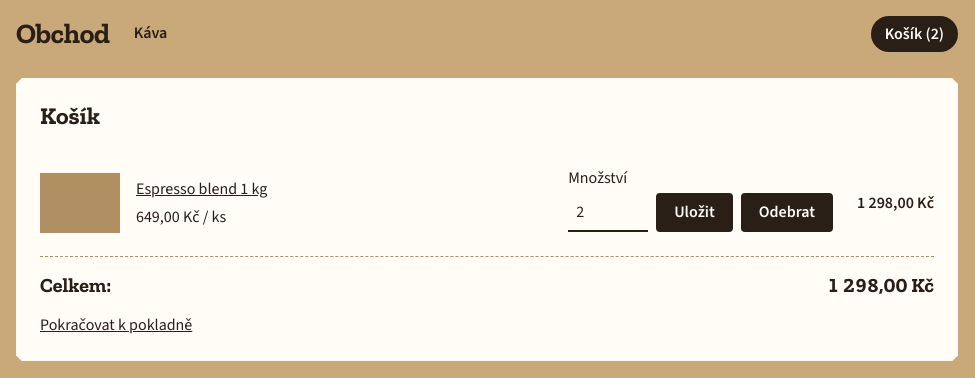
removes a line
Click the button "Odebrat". click: [787, 213]
box: [741,193,833,232]
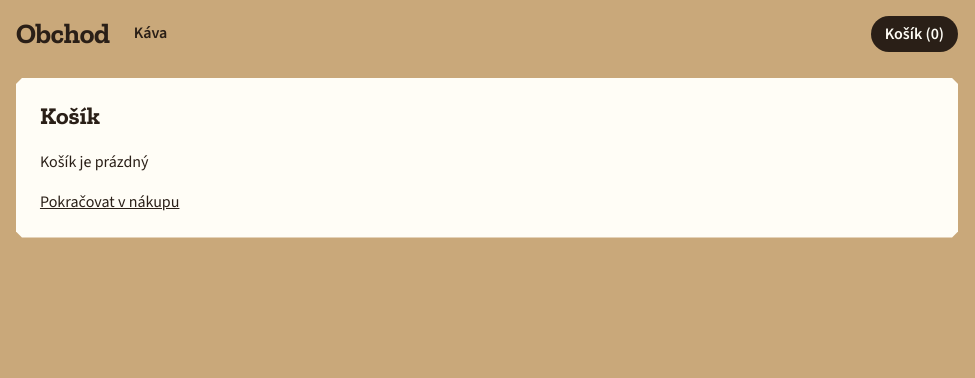
Check: the text "Košík je prázdný" is shown, box [40,150,148,172]
